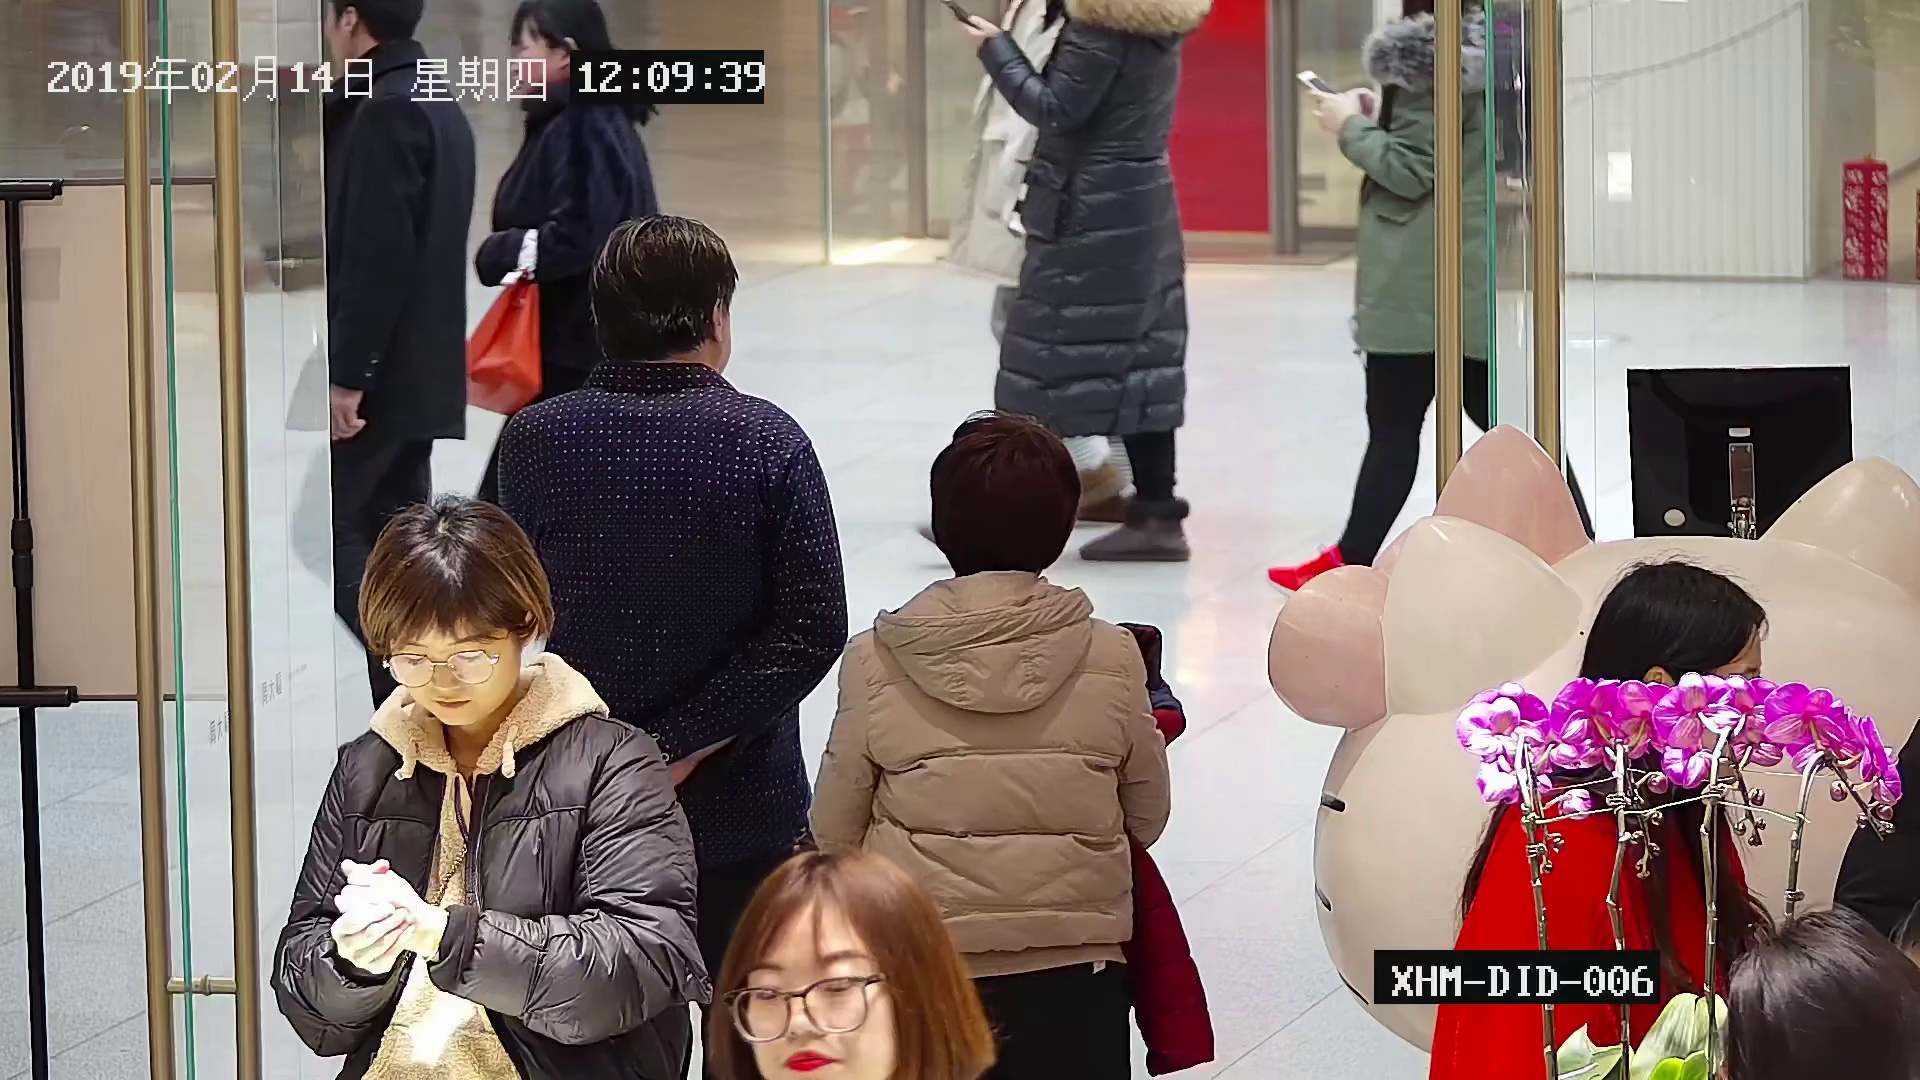head: (702, 852, 989, 1077), (354, 494, 553, 727), (1594, 556, 1761, 785), (1715, 908, 1916, 1077), (926, 412, 1079, 567), (590, 212, 735, 373), (502, 0, 599, 95), (322, 0, 421, 69)
